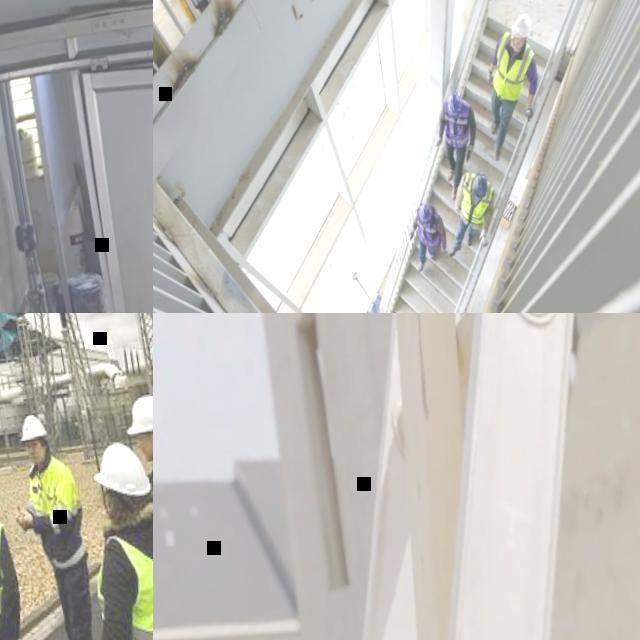Hardhat: (88, 434, 153, 505), (122, 386, 153, 438), (16, 408, 48, 439), (508, 11, 533, 40), (471, 169, 490, 199), (446, 90, 465, 118), (417, 201, 434, 225)
NO-Mask: (31, 444, 51, 465), (138, 437, 153, 457), (510, 39, 521, 48)
Person: (0, 401, 114, 640), (64, 428, 153, 640), (472, 11, 552, 161), (122, 379, 153, 640), (0, 442, 37, 640), (428, 88, 487, 201), (435, 166, 505, 257), (404, 200, 452, 272)
Safety Vest: (88, 513, 153, 640), (26, 452, 91, 571), (486, 25, 542, 102), (0, 507, 25, 640), (455, 167, 500, 224), (440, 94, 477, 148), (415, 201, 444, 243)
